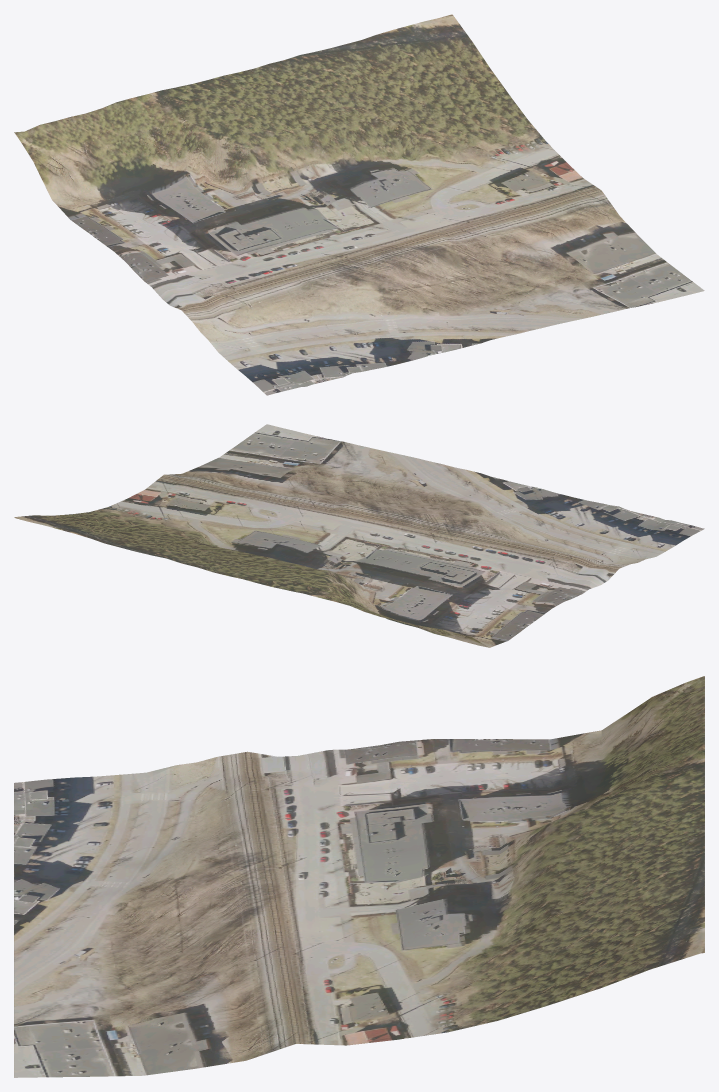
Rendered from CM_Terrain_24488820_6820204.fbx.
3 views of the same model, one above another, from view 1: azimuth 30°, elevation 25°; view 2: azimuth 150°, elevation 25°; view 3: azimuth 270°, elevation 25° (orthographic). The views are drawn at different scales.
Visible parts, largest first — view 1: CM_Terrain_24488820_6820204_LOD0; view 2: CM_Terrain_24488820_6820204_LOD0; view 3: CM_Terrain_24488820_6820204_LOD0.
Part boxes in pixels (<box>): CM_Terrain_24488820_6820204_LOD0: <box>14,14,704,395</box>; CM_Terrain_24488820_6820204_LOD0: <box>14,424,704,647</box>; CM_Terrain_24488820_6820204_LOD0: <box>14,676,704,1077</box>.
Size of what is drawn, in the model's own units: 205 by 40.9 by 205.
